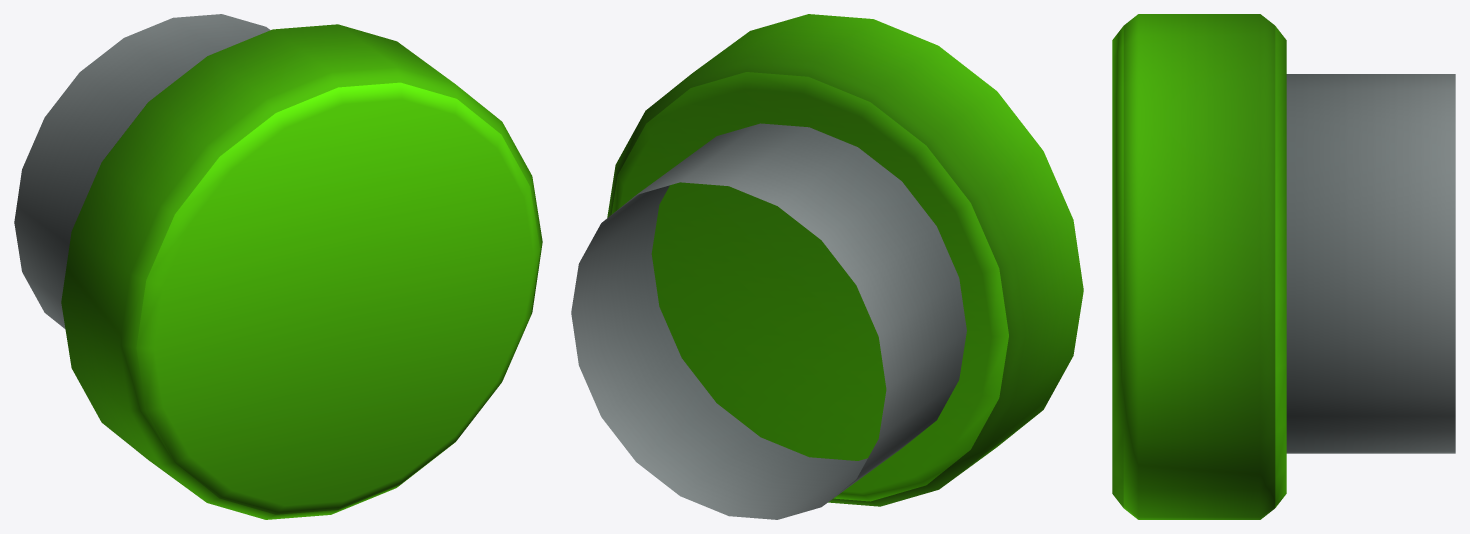
File: bottone_puzzle_allarme_verde.fbx
3 renders of one model, left to right at view 1: azimuth 30°, elevation 25°; view 2: azimuth 150°, elevation 25°; view 3: azimuth 270°, elevation 25°, orthographic. The views are drawn at different scales.
Visible parts, largest first — view 1: bottone_puzzle_allarme_verde; view 2: bottone_puzzle_allarme_verde; view 3: bottone_puzzle_allarme_verde.
Boxes of the visible parts, x1,y1,x2,y2 form: bottone_puzzle_allarme_verde: (14,14,542,519); bottone_puzzle_allarme_verde: (571,14,1083,519); bottone_puzzle_allarme_verde: (1112,14,1455,519).
Bounding box in the file's own units: 4 × 4 × 2.69.
